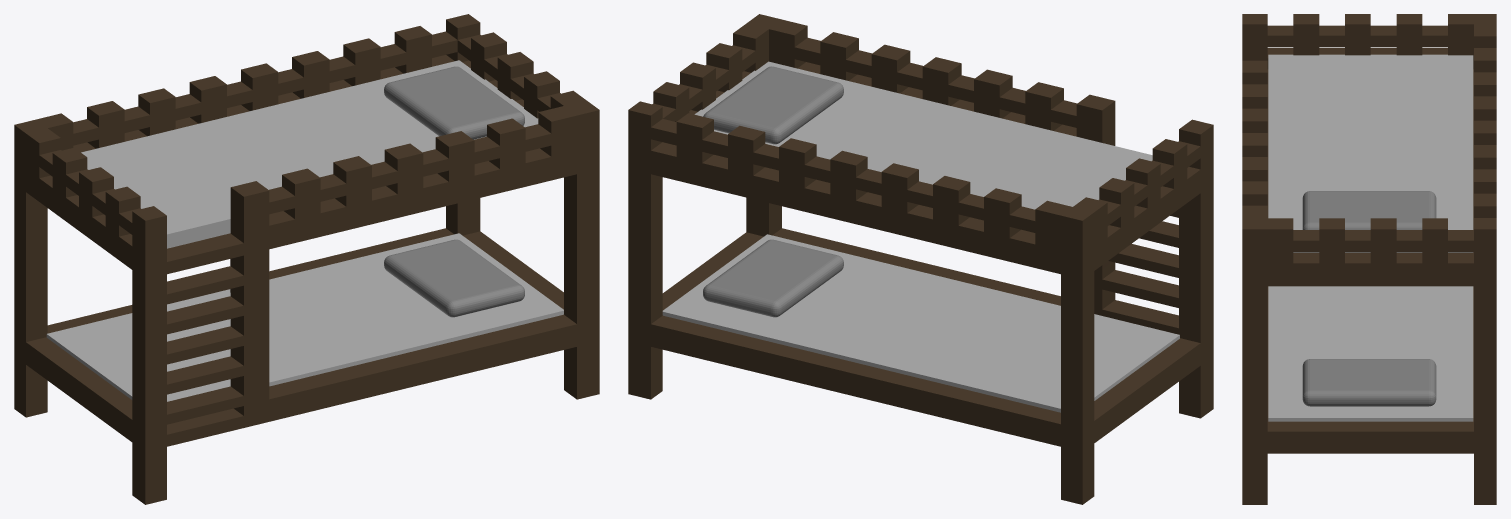
The model's file is bed.fbx.
3 views of the same model, side by side, from view 1: azimuth 30°, elevation 25°; view 2: azimuth 150°, elevation 25°; view 3: azimuth 270°, elevation 25° (orthographic). The views are drawn at different scales.
Visible parts, largest first — view 1: Cube; view 2: Cube; view 3: Cube.
Part boxes in pixels (x1,y1,x2,y2): Cube: [14, 14, 599, 504]; Cube: [628, 14, 1213, 504]; Cube: [1242, 14, 1496, 504].
Bounding box in the file's own units: 400 × 239 × 200.
